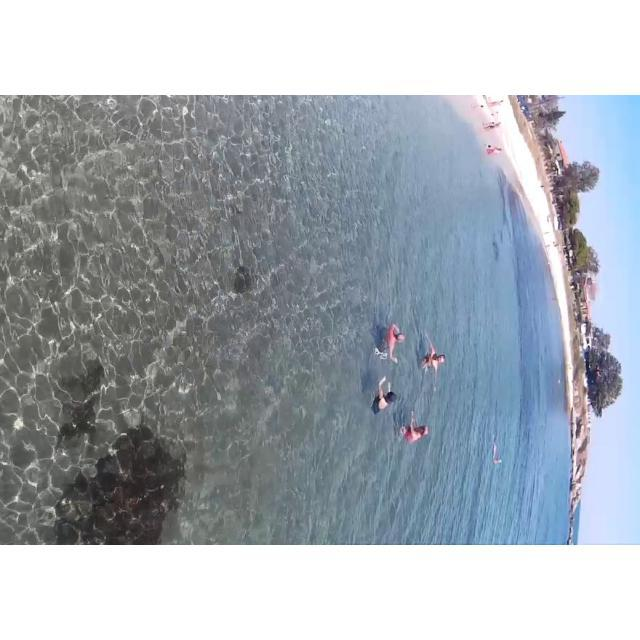human: (381, 308, 407, 371), (375, 376, 410, 418), (423, 324, 448, 382), (413, 414, 429, 450)
